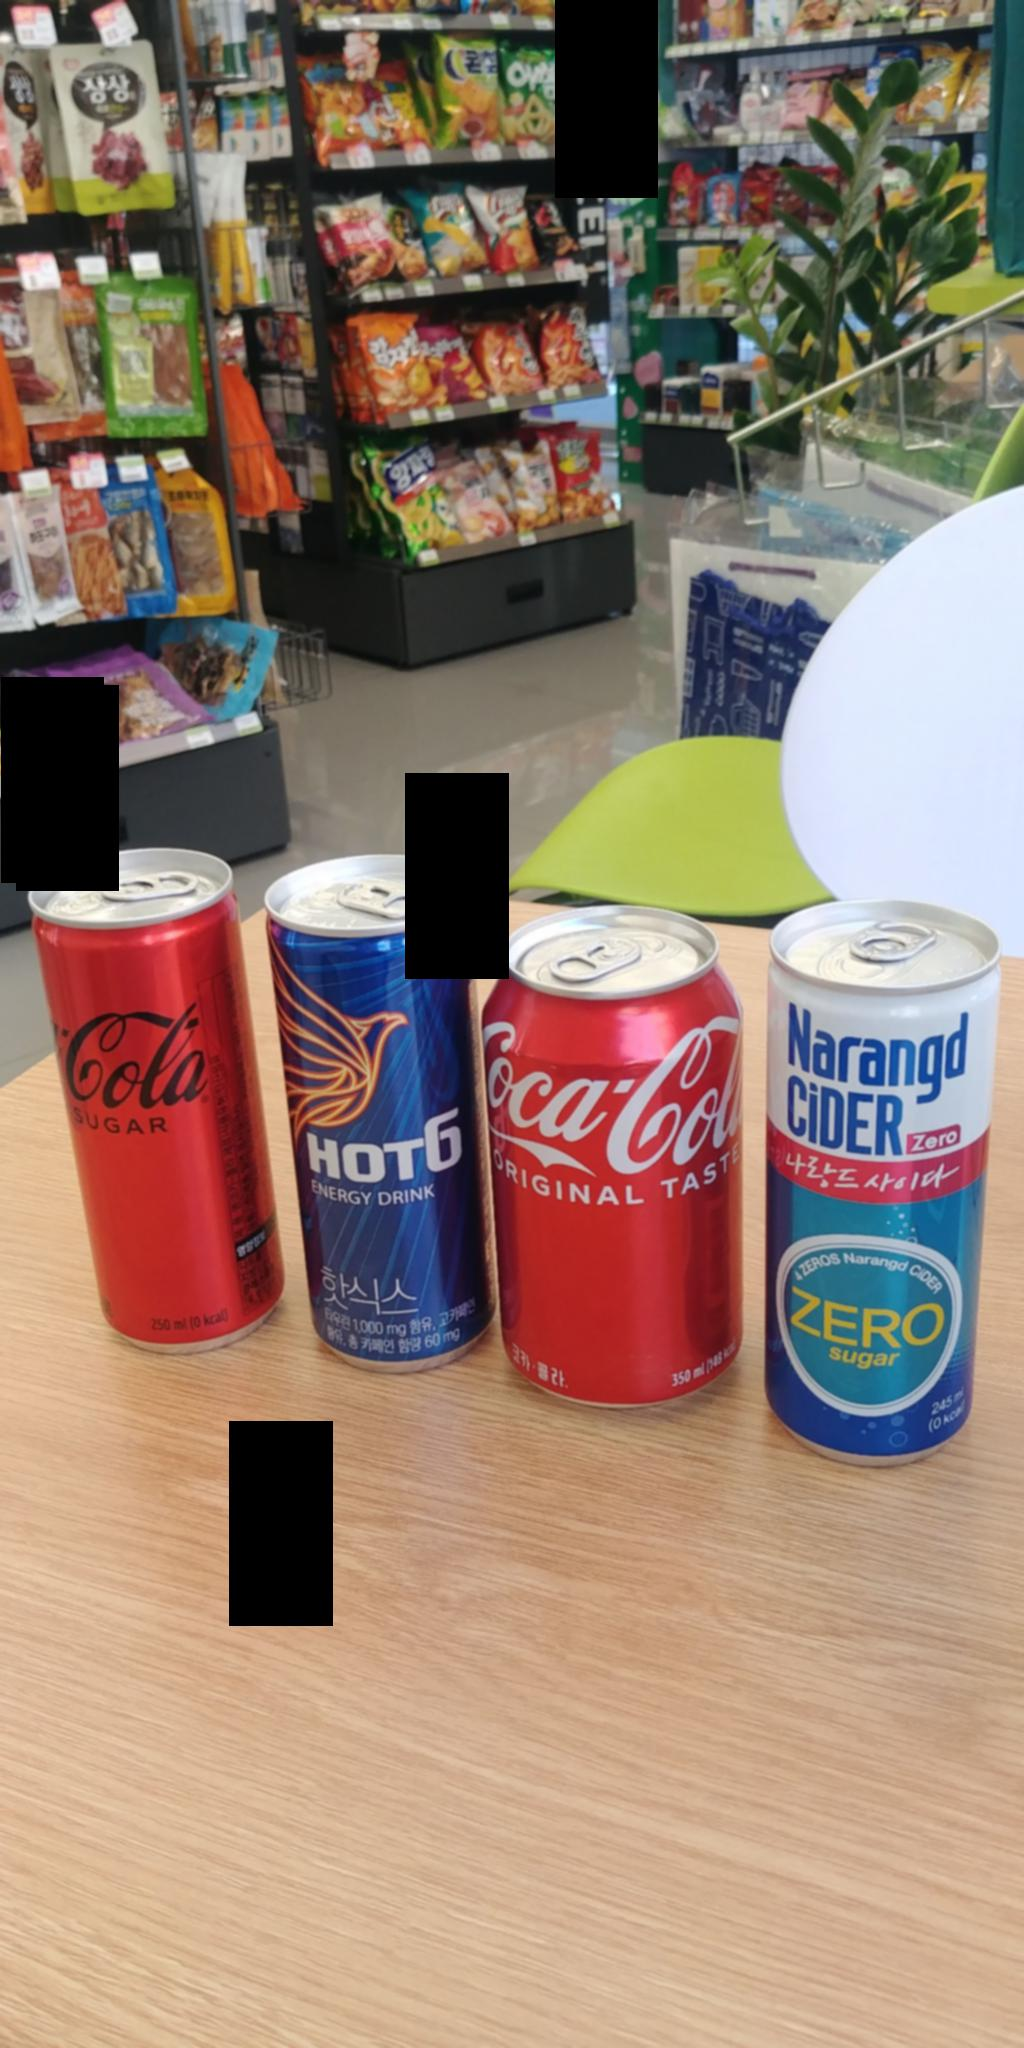cocacola: (499, 916, 754, 1412)
hotsix_org: (263, 828, 490, 1401)
narangdcider: (760, 896, 999, 1458)
